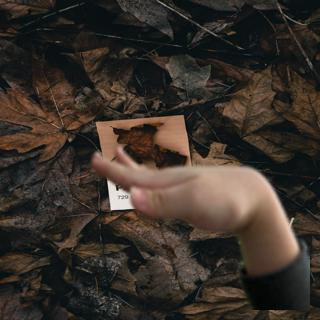Wait: (76, 135, 289, 257)
